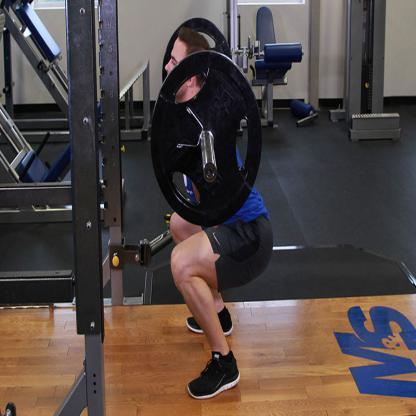barbell: (145, 16, 266, 230)
